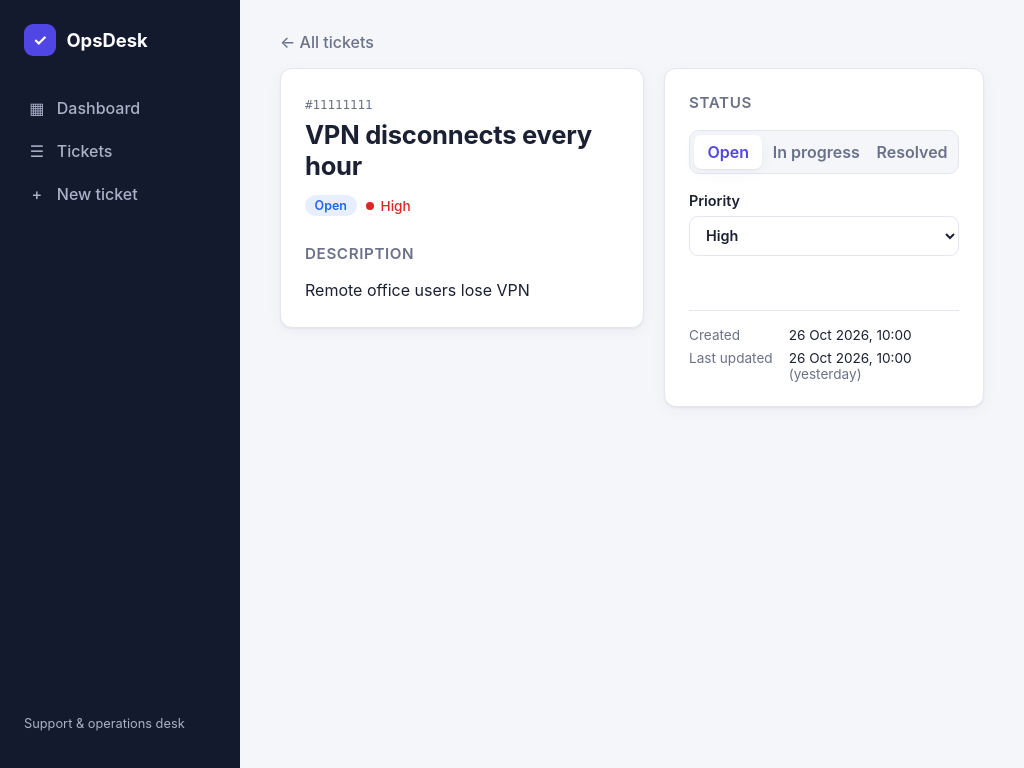
Ticket details › shows the save error from the API
Click the button "In progress" at (816, 152), box x1=766 y1=135 x2=866 y2=169
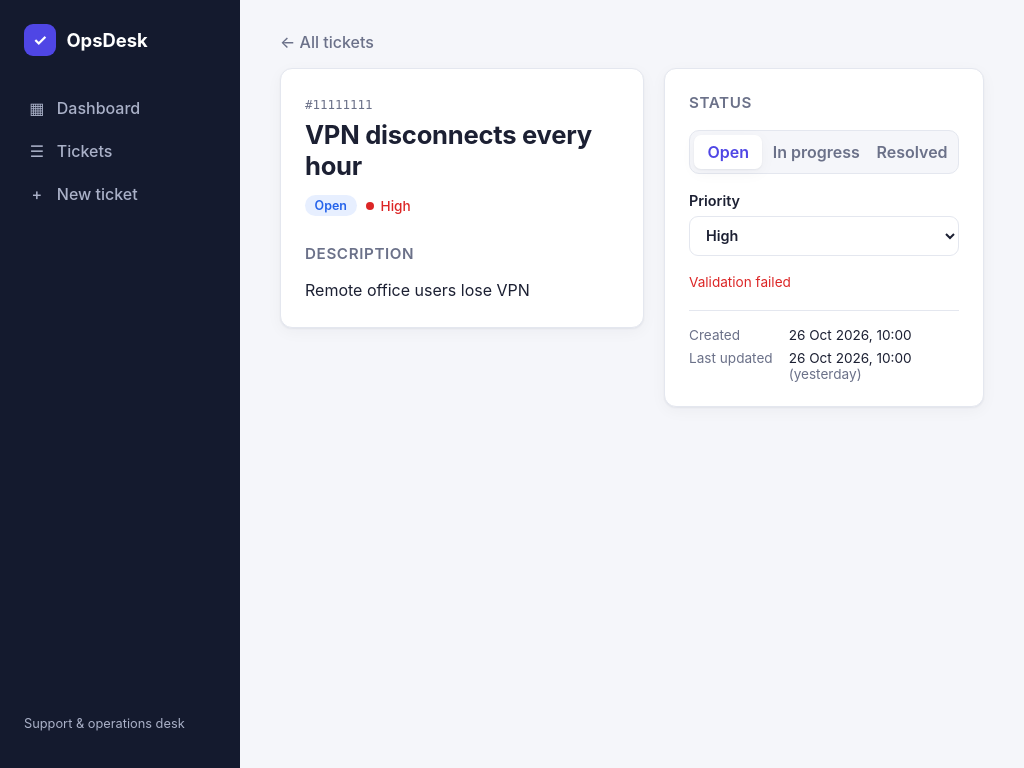
Expected: the text "Validation failed" is shown, x1=689 y1=274 x2=791 y2=290
